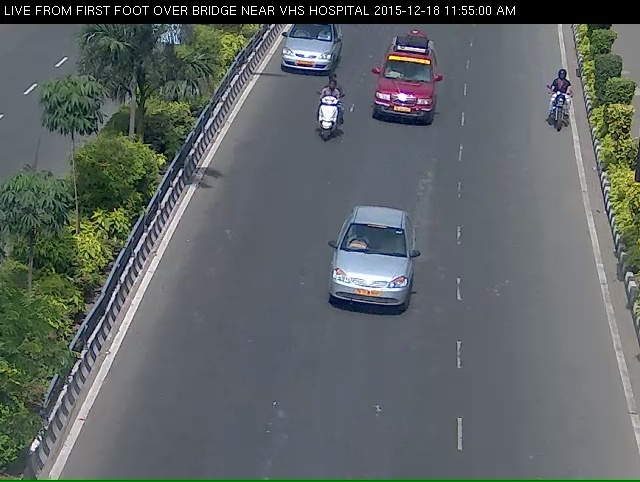Car: (323, 218, 413, 335), (371, 41, 442, 137), (271, 18, 344, 82)
Person: (304, 85, 347, 160), (541, 70, 578, 156)
